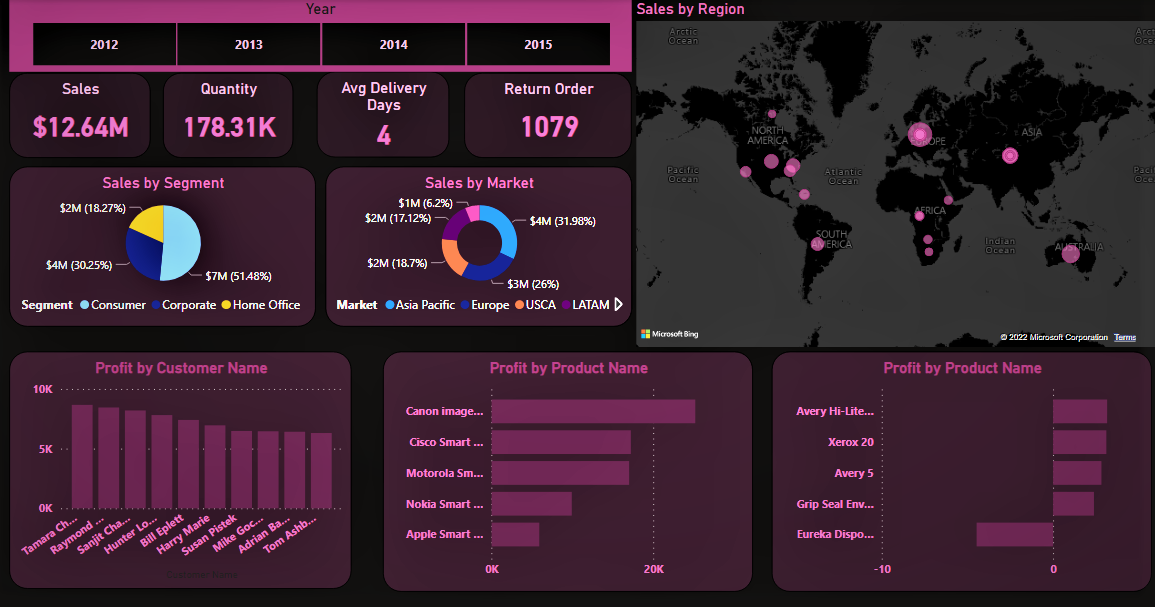

This screenshot's page, from the dashboard's own definition file:
{"tool":"powerbi","page":{"name":"Page 1","canvas":[1280,720],"ordinal":0},"visuals":[{"type":"card","title":"Sales","fields":{"Values":["Orders.Sales"]},"box":[12.4,81,155.2,93.4],"z":0},{"type":"card","title":"Quantity","fields":{"Values":["Orders.Quantity"]},"box":[181.3,81,142.8,93.4],"z":1},{"type":"card","title":"Avg Delivery Days","fields":{"Values":["Orders.Delivery Day"]},"box":[350.2,79.7,145.6,94.8],"z":2},{"type":"slicer","title":"Year","fields":{"Values":["Orders.Year"]},"box":[12.4,0,683.9,79.7],"z":3},{"type":"card","title":"Return Order","fields":{"Values":["Returns.Return Orders"]},"box":[512.3,81,184,93.4],"z":4},{"type":"map","fields":{"Size":["Orders.Sales"],"Category":["Orders.Region"]},"box":[696.3,0,583.7,387.3],"z":5},{"type":"barChart","fields":{"Y":["Orders.Profit"],"Category":["Orders.Product Name"]},"box":[850.1,387.3,417.5,263.7],"z":6},{"type":"barChart","fields":{"Y":["Orders.Profit"],"Category":["Orders.Product Name"]},"box":[423,387.3,406.5,263.7],"z":7},{"type":"pieChart","fields":{"Category":["Orders.Segment"],"Y":["Orders.Sales"]},"box":[12.4,184,336.5,175.8],"z":8},{"type":"donutChart","fields":{"Y":["Orders.Sales"],"Category":["Orders.Market"]},"box":[359.8,184,336.5,175.8],"z":9},{"type":"columnChart","fields":{"Category":["Orders.Customer Name"],"Y":["Orders.Profit"]},"box":[12.4,387.3,376.3,260.9],"z":10}]}

Visuals, with their boxes on the page's 1280x720 design canvas (x1, y1, x2, y2). These are canvas units, not pixel positions in the 1155x607 screenshot, which may show the page scaled, cropped or inside an application window:
"Sales" card: {"x1": 12, "y1": 81, "x2": 168, "y2": 174}
"Quantity" card: {"x1": 181, "y1": 81, "x2": 324, "y2": 174}
"Avg Delivery Days" card: {"x1": 350, "y1": 80, "x2": 496, "y2": 174}
"Year" slicer: {"x1": 12, "y1": 0, "x2": 696, "y2": 80}
"Return Order" card: {"x1": 512, "y1": 81, "x2": 696, "y2": 174}
map - Orders.Sales x Orders.Region: {"x1": 696, "y1": 0, "x2": 1280, "y2": 387}
barChart - Orders.Profit x Orders.Product Name: {"x1": 850, "y1": 387, "x2": 1268, "y2": 651}
barChart - Orders.Profit x Orders.Product Name: {"x1": 423, "y1": 387, "x2": 830, "y2": 651}
pieChart - Orders.Segment x Orders.Sales: {"x1": 12, "y1": 184, "x2": 349, "y2": 360}
donutChart - Orders.Sales x Orders.Market: {"x1": 360, "y1": 184, "x2": 696, "y2": 360}
columnChart - Orders.Customer Name x Orders.Profit: {"x1": 12, "y1": 387, "x2": 389, "y2": 648}
